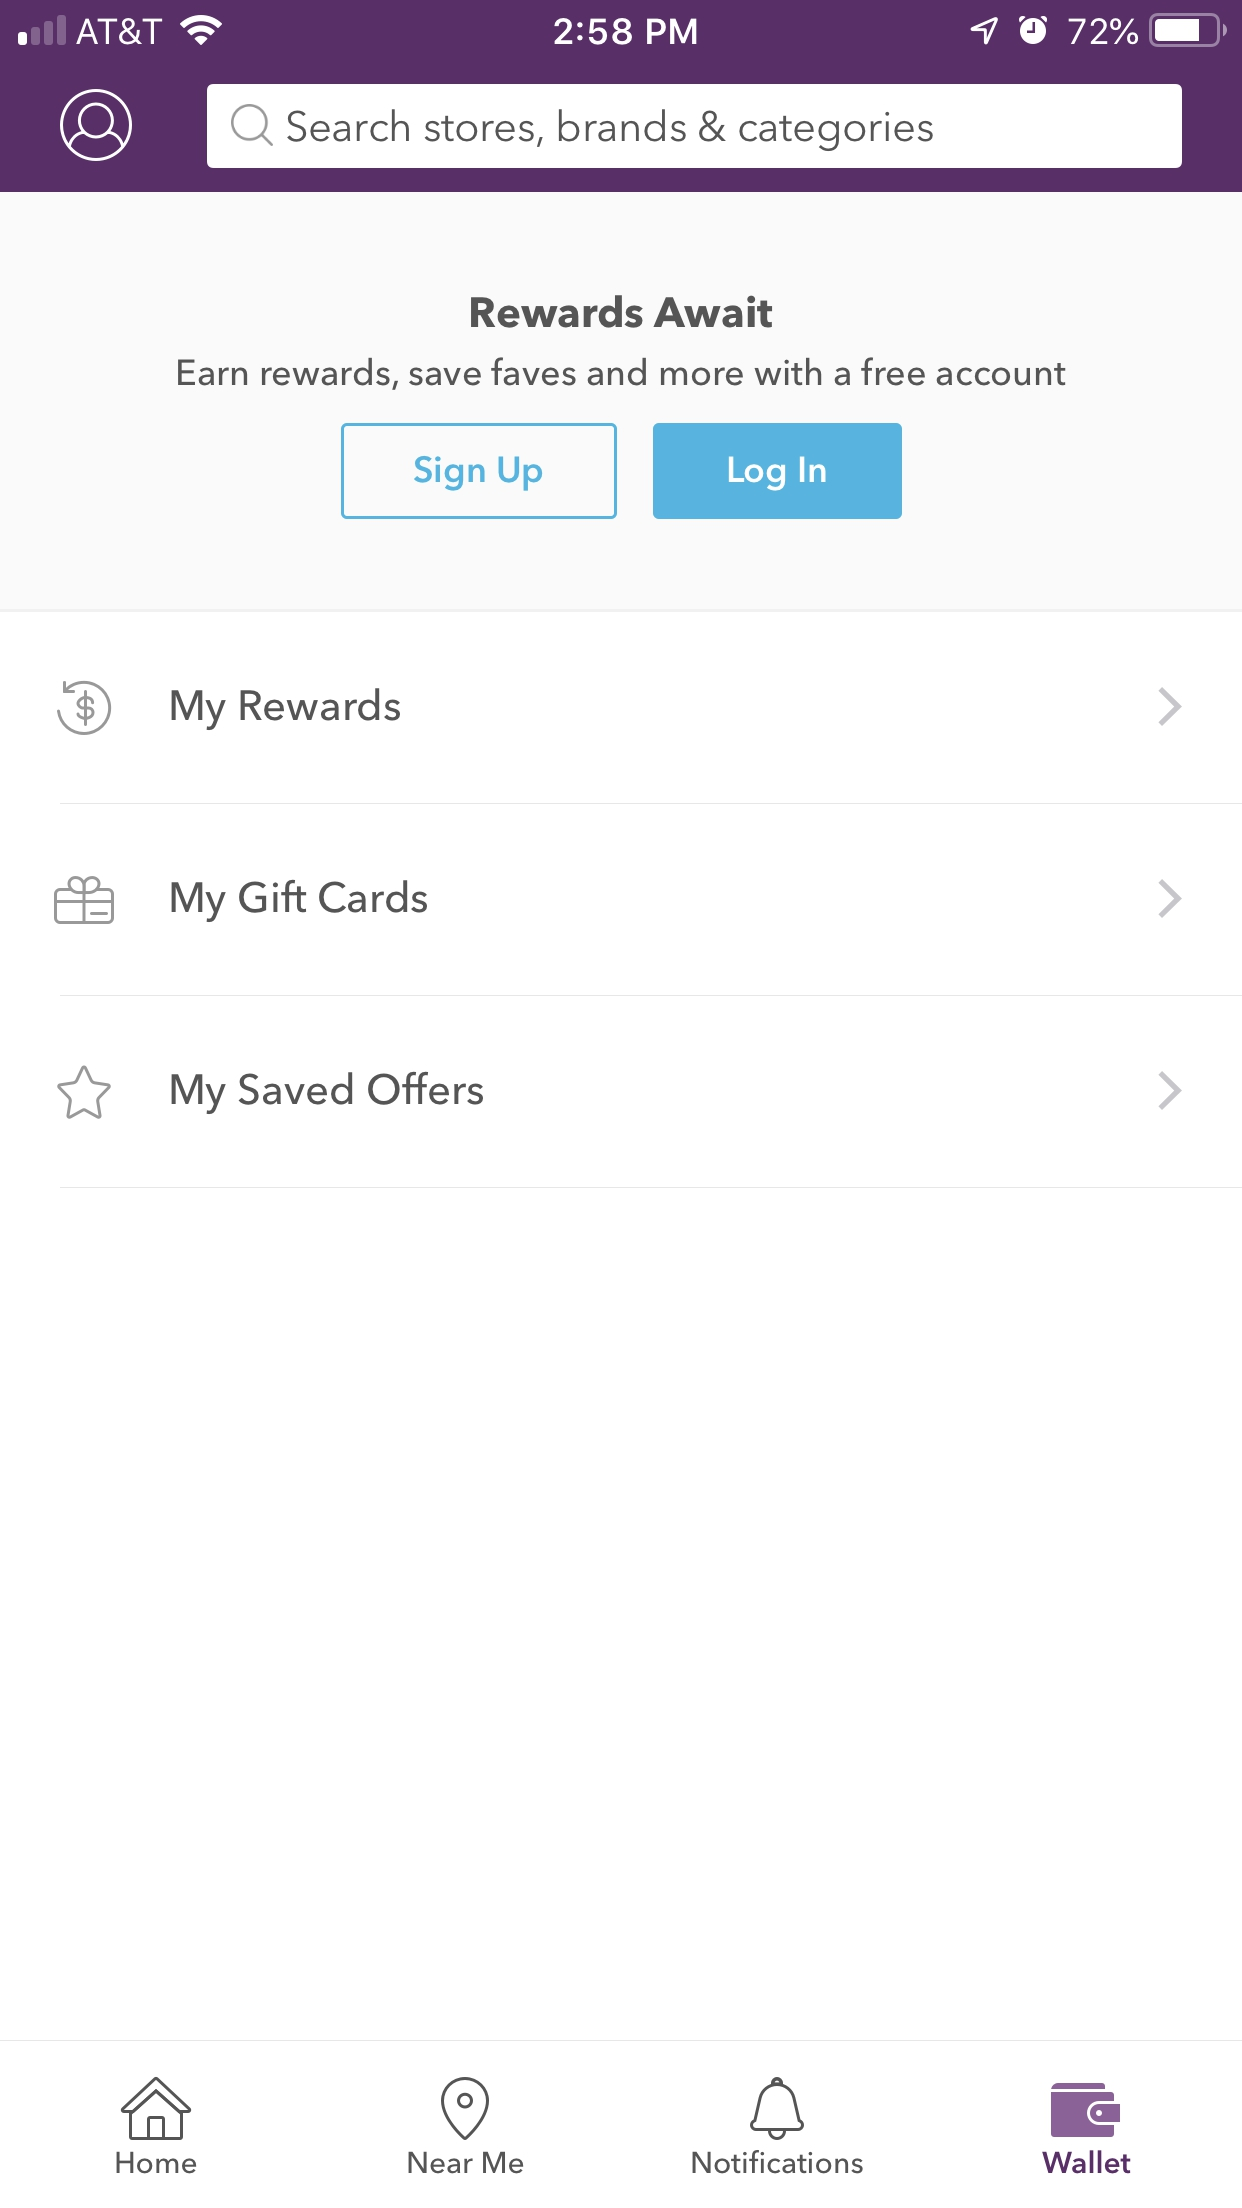EditText: (206, 85, 1181, 168)
Icon: (61, 89, 133, 162), (121, 2076, 193, 2140), (1049, 2082, 1121, 2137), (751, 2078, 805, 2140), (441, 2076, 490, 2140), (58, 1066, 112, 1121), (58, 681, 112, 735), (55, 877, 115, 925), (231, 105, 274, 147), (1159, 1071, 1181, 1112), (1159, 880, 1181, 919), (1159, 687, 1181, 726)
Text: (177, 356, 1066, 391), (287, 111, 933, 152), (171, 1072, 484, 1115), (171, 880, 428, 924), (472, 296, 773, 329), (171, 688, 400, 731), (693, 2149, 864, 2175), (409, 2150, 525, 2175), (1040, 2149, 1131, 2175), (117, 2150, 199, 2175)
TextButton: (343, 423, 619, 520), (654, 423, 902, 520)
UpperTaskBar: (2, 2, 1242, 49)
